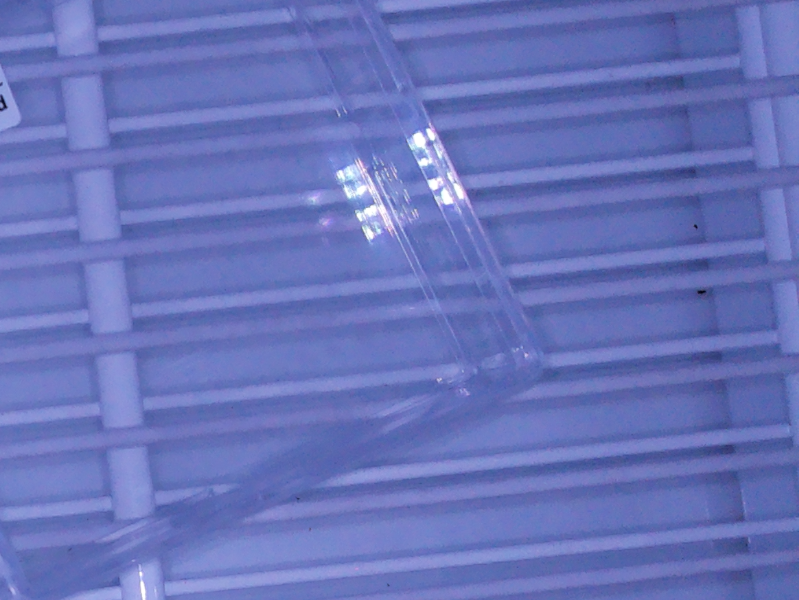plate: (1, 1, 546, 599)
